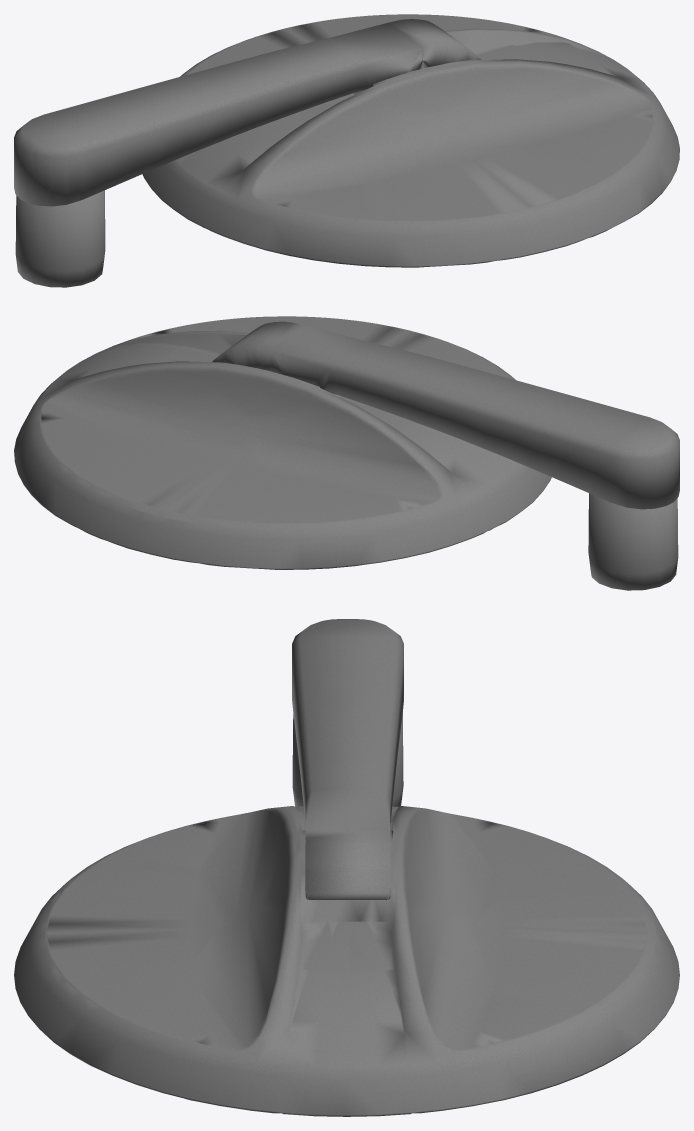
File: DL_50_Midi.glb
The picture shows the model from 3 angles, top to bottom: view 1: azimuth 30°, elevation 25°; view 2: azimuth 150°, elevation 25°; view 3: azimuth 270°, elevation 25°; orthographic projection. The views are drawn at different scales.
Visible parts, largest first — view 1: Siteco DL 50 Midi; view 2: Siteco DL 50 Midi; view 3: Siteco DL 50 Midi.
Boxes of the visible parts, x1,y1,x2,y2 form: Siteco DL 50 Midi: (14,14,679,287); Siteco DL 50 Midi: (14,316,679,590); Siteco DL 50 Midi: (14,619,679,1116).
Size of the model in its own units: 0.8407 by 0.1955 by 0.6346.
3 materials, 3 textured.
